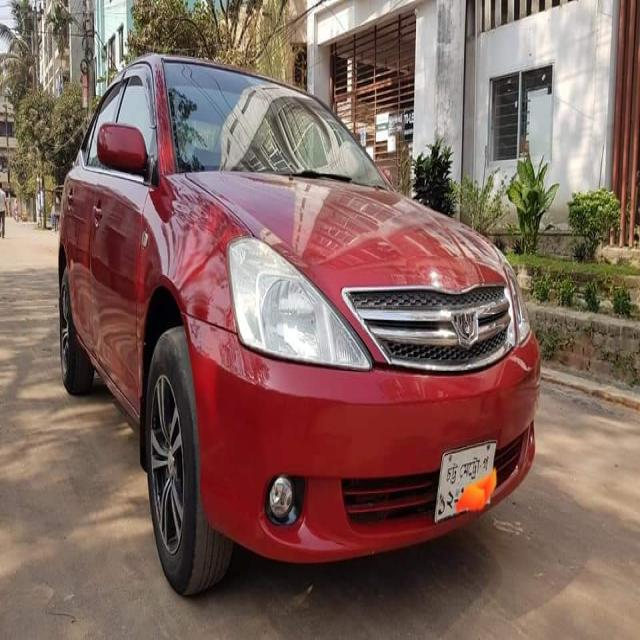maroon: (53, 53, 540, 564)
